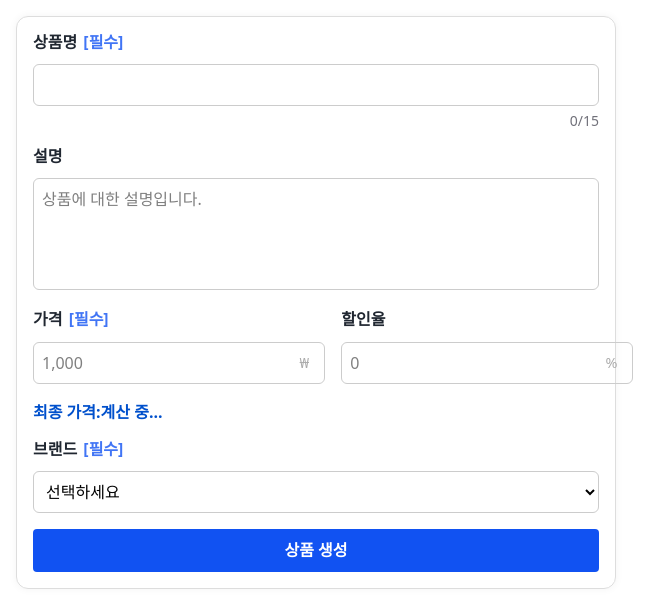
Scenario: ProductForm 유효성 검사 › finalPrice가 있을 때, 가격을 올바르게 표시한다
The width and height of the screenshot is (650, 606).
In the field labelled "가격 [필수]": x=179, y=363 [33,342,325,384], type "10000"
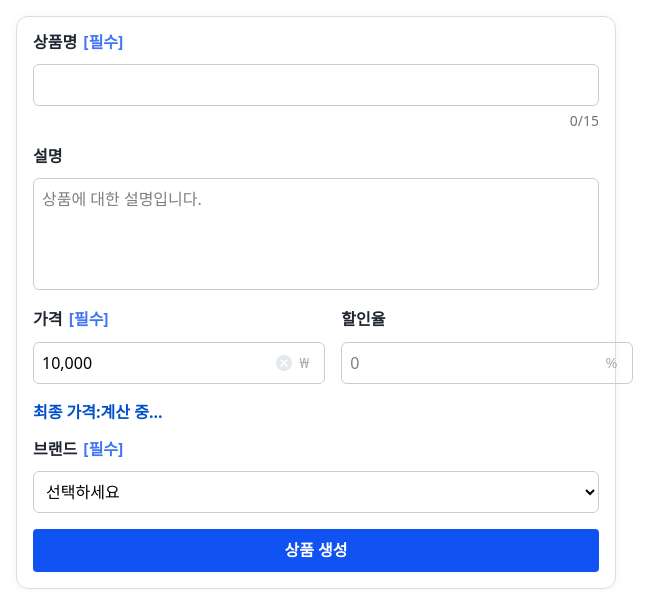
In the field labelled "할인율": x=487, y=363 [341,342,633,384], type "10"
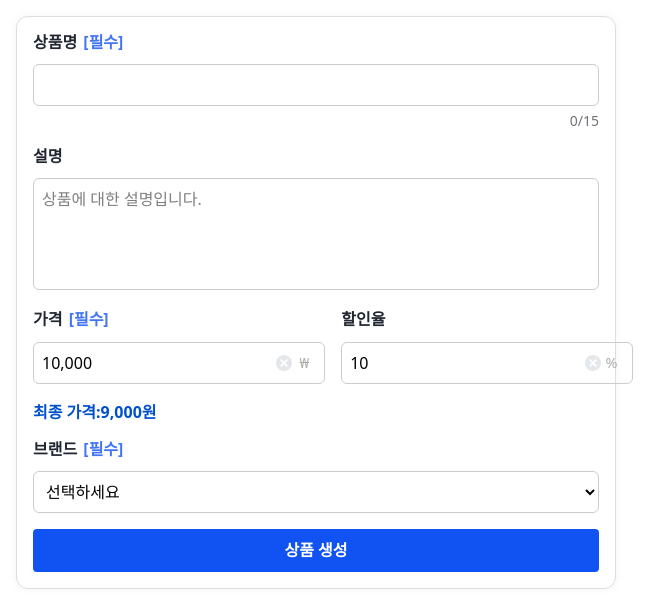
Now the text "최종 가격:9,000원" is shown, box [33,401,156,423]
